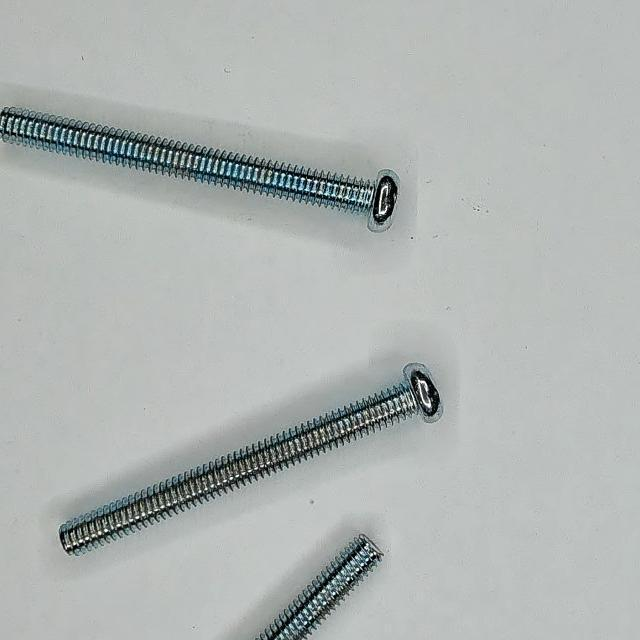Screw: (58, 364, 442, 556), (0, 107, 400, 232), (256, 537, 384, 640)
